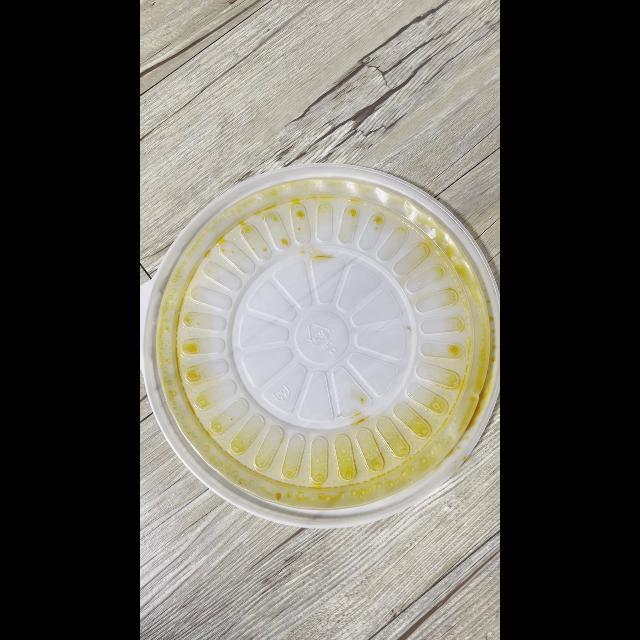dirty: (148, 166, 496, 518)
